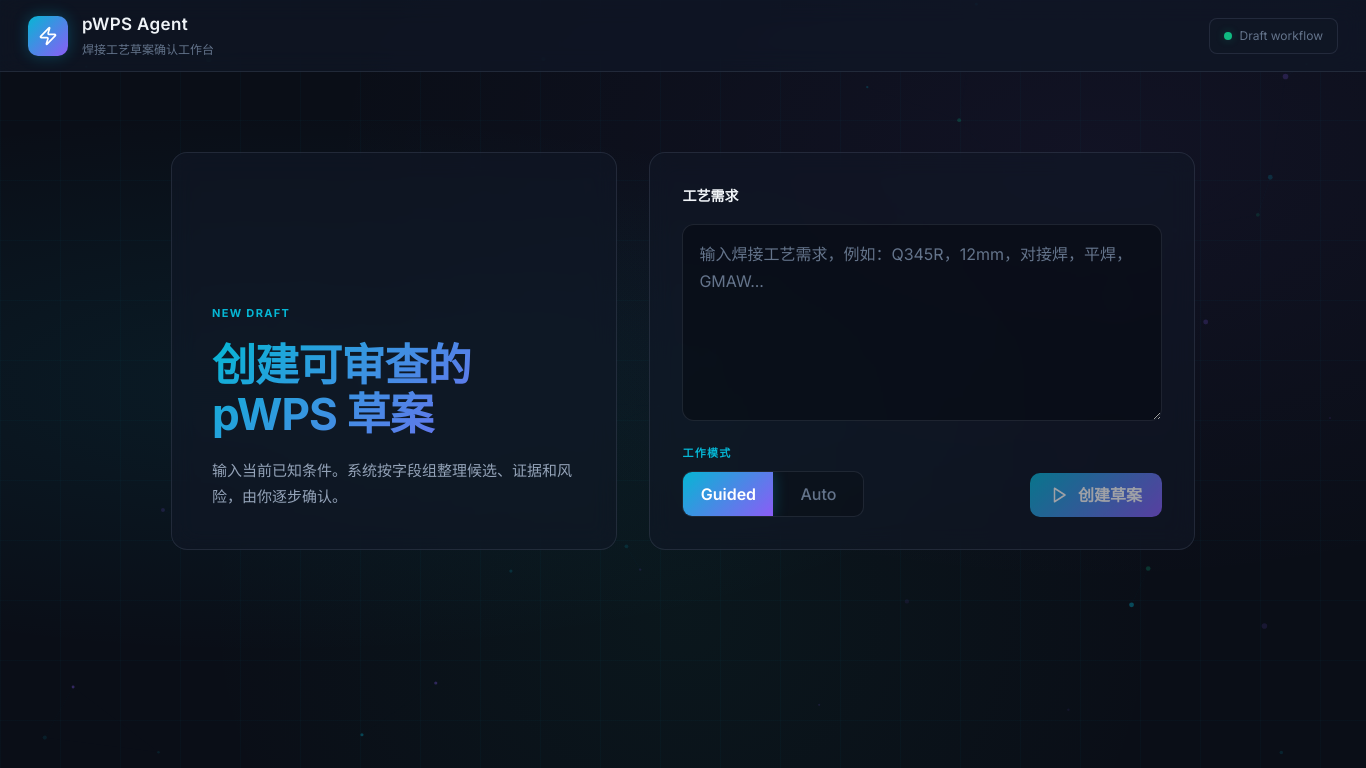
GuidedWorkbench › shows group progress list
Type "Q345R，12mm，对接焊，平焊，GMAW，生成 pWPS 草案" into the text box labelled "工艺需求". click: coordinates (922, 323)
box: [682,224,1162,421]
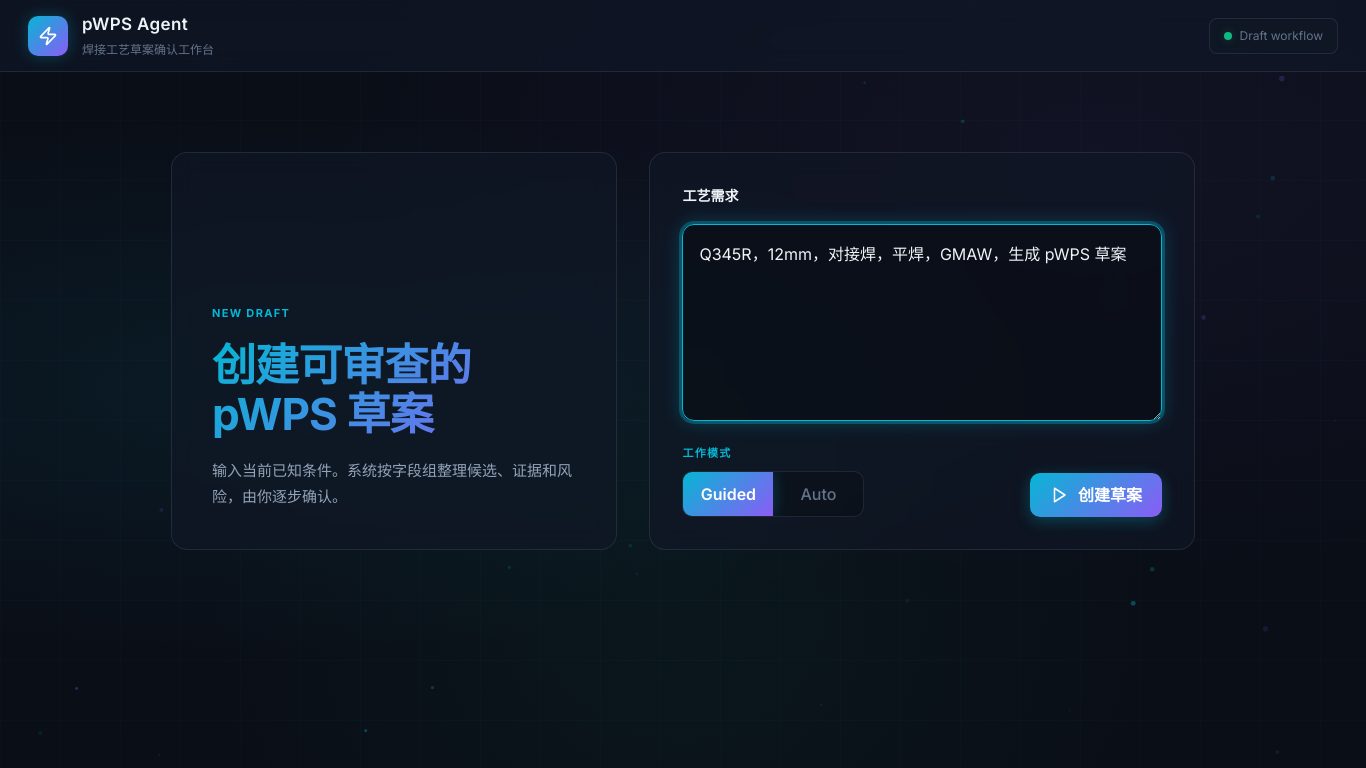
Click the button "创建草案". click: coordinates (1096, 495)
box: [1030,473,1162,517]
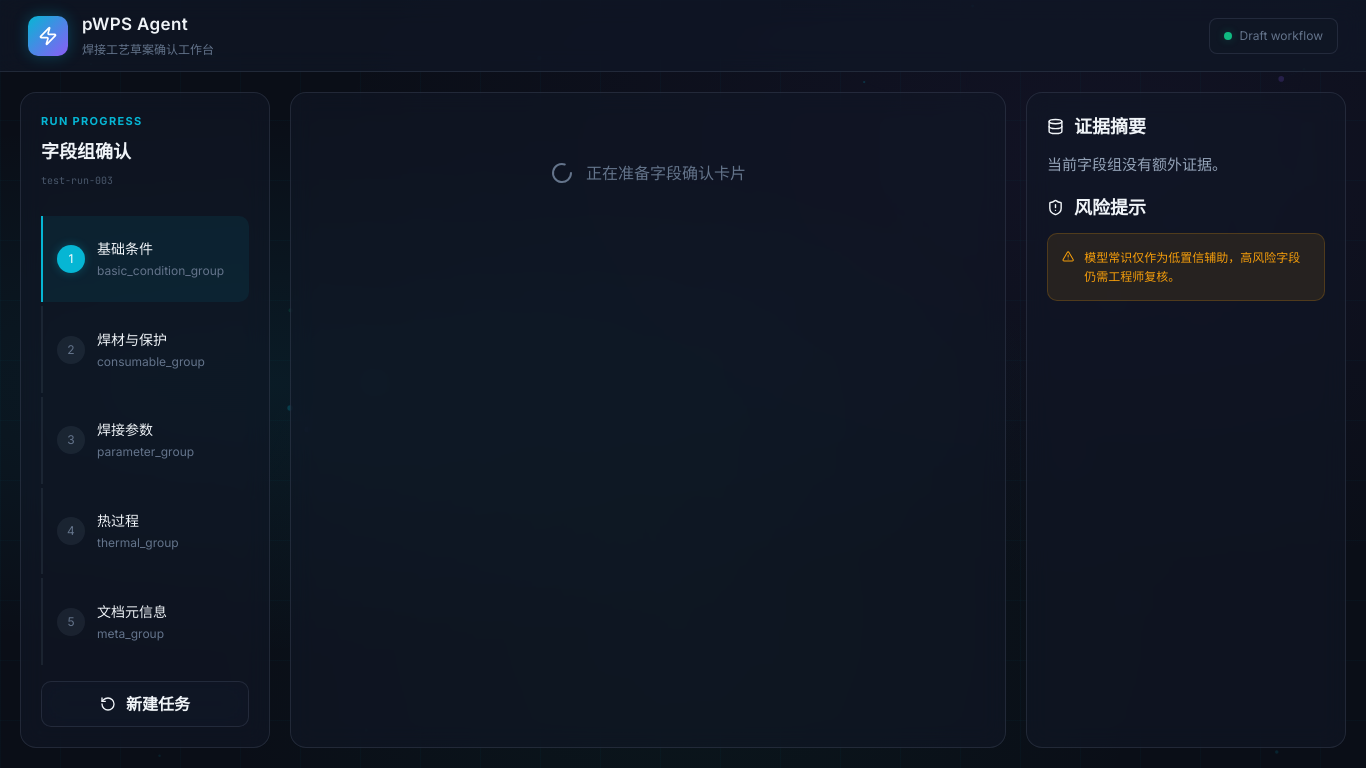
Expected: the text "基础条件" is shown, [97,240,153,257]
Expected: the text "焊材与保护" is shown, [97,330,167,348]
Expected: the text "焊接参数" is shown, [97,421,153,438]
